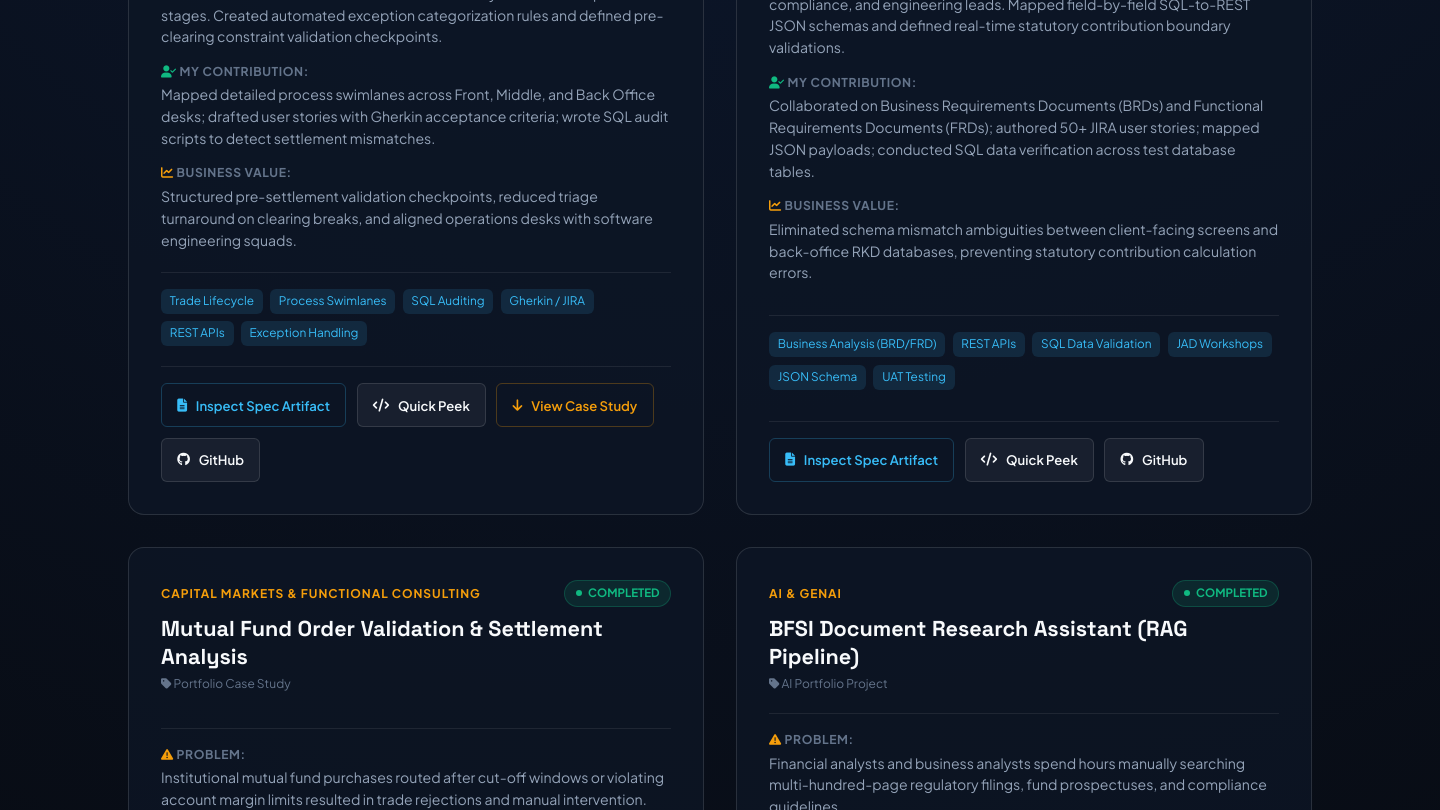
Test: Techno-Functional Portfolio Comprehensive Regression Suite › FeaturedWork Component › opens deliverable spec modal, verifies accessibility dialog, and closes via close button and Escape key
(page scrolled)
Click the button "Inspect Spec Artifact" in the row of "View Case Study": {"x": 254, "y": 405} [161,383,346,427]
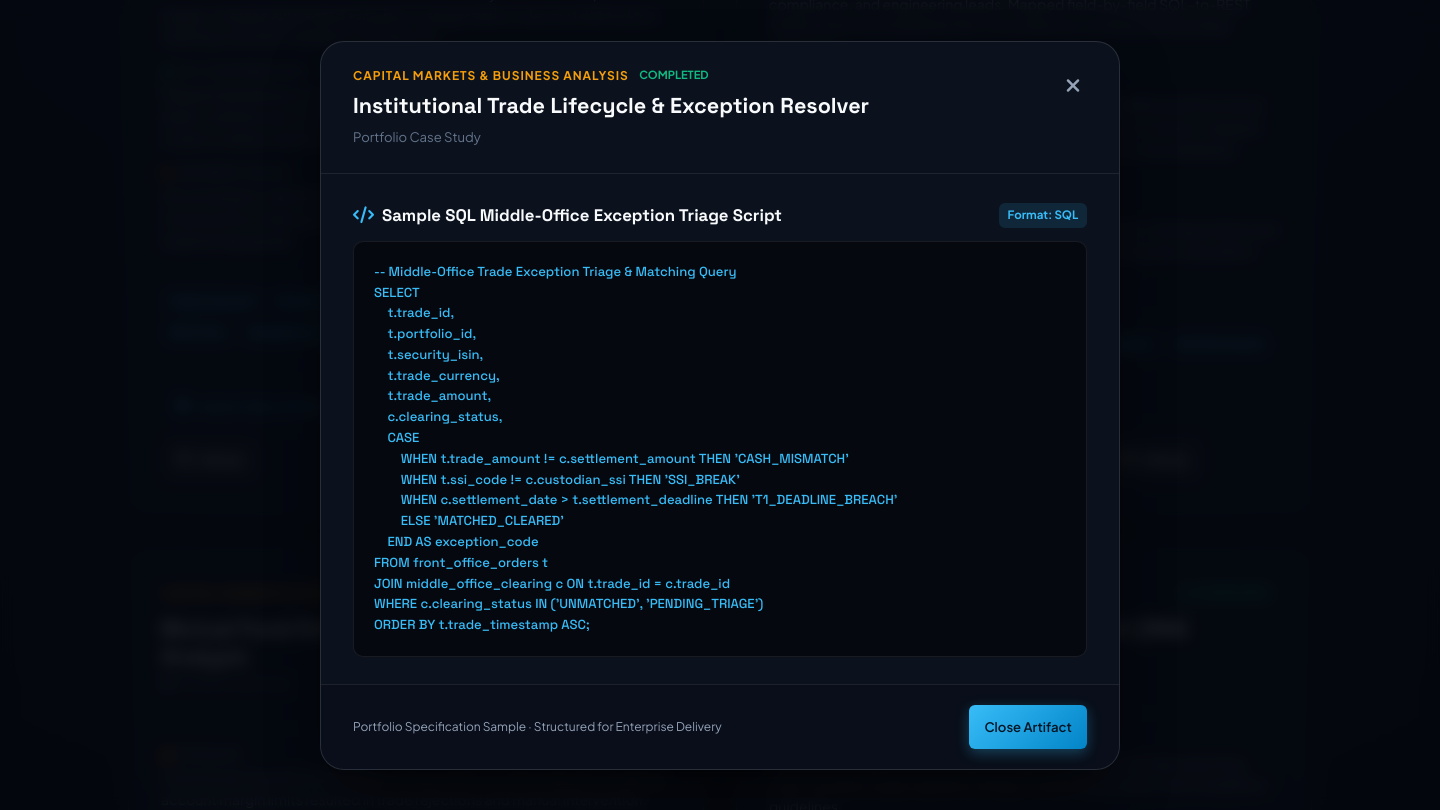
Expected: the dialog is shown, [320,40,1120,770]
# Close with close button
Click the button named "Close modal": {"x": 1073, "y": 84} [1059,66,1087,103]
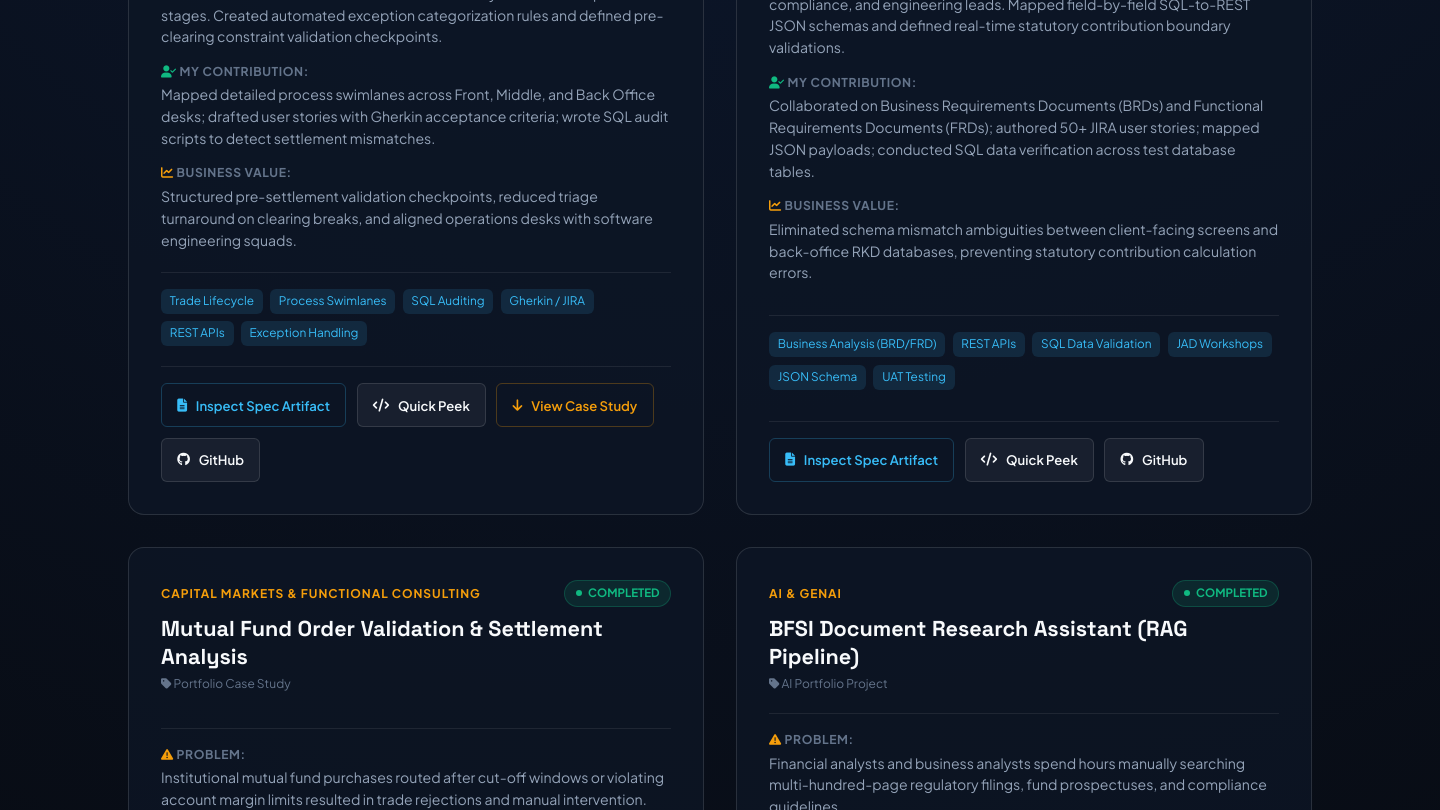
Expected: the dialog is gone
# Open again and close with Escape key
Click the button "Inspect Spec Artifact" in the row of "View Case Study": {"x": 254, "y": 405} [161,383,346,427]
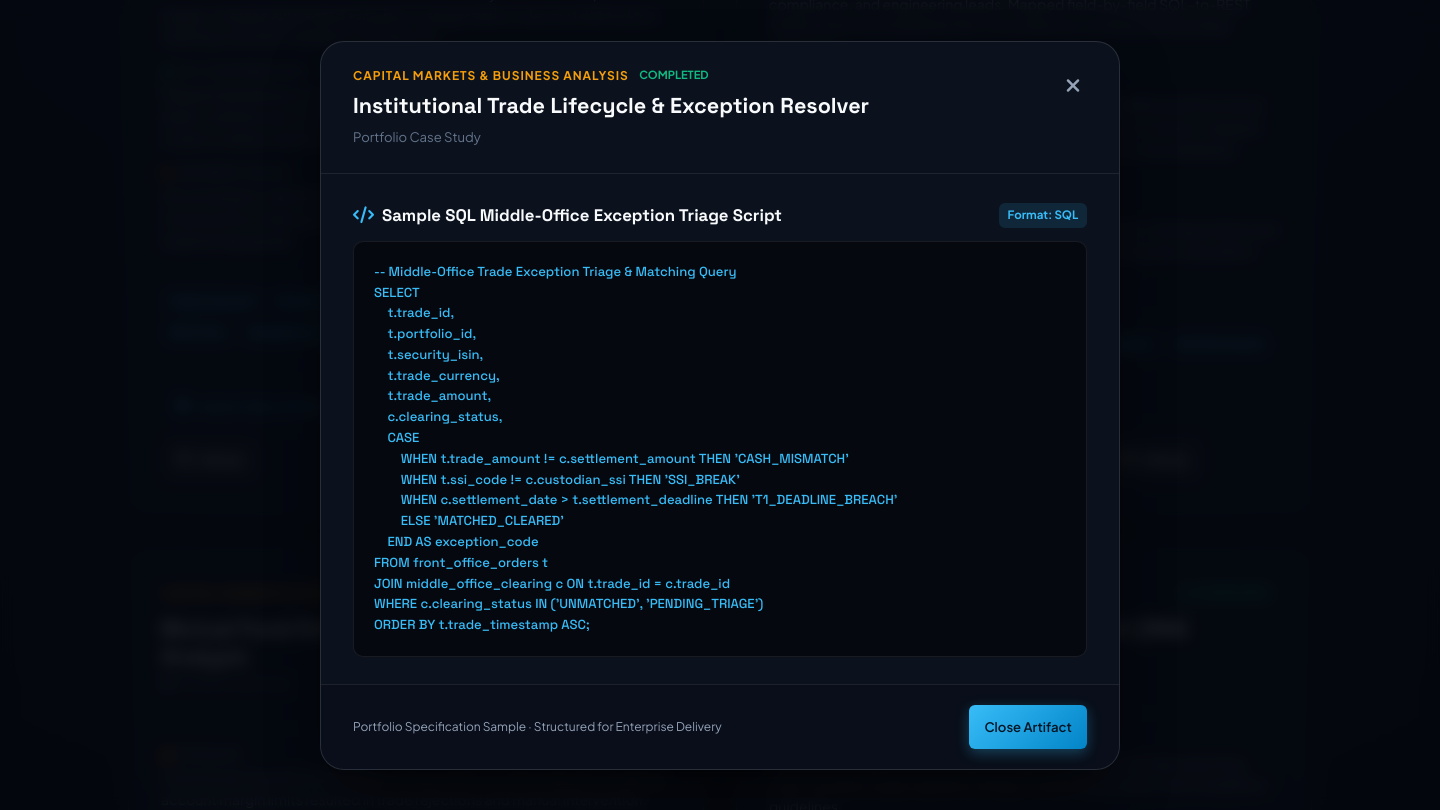
Expected: the dialog is shown, [320,40,1120,770]
Press Escape
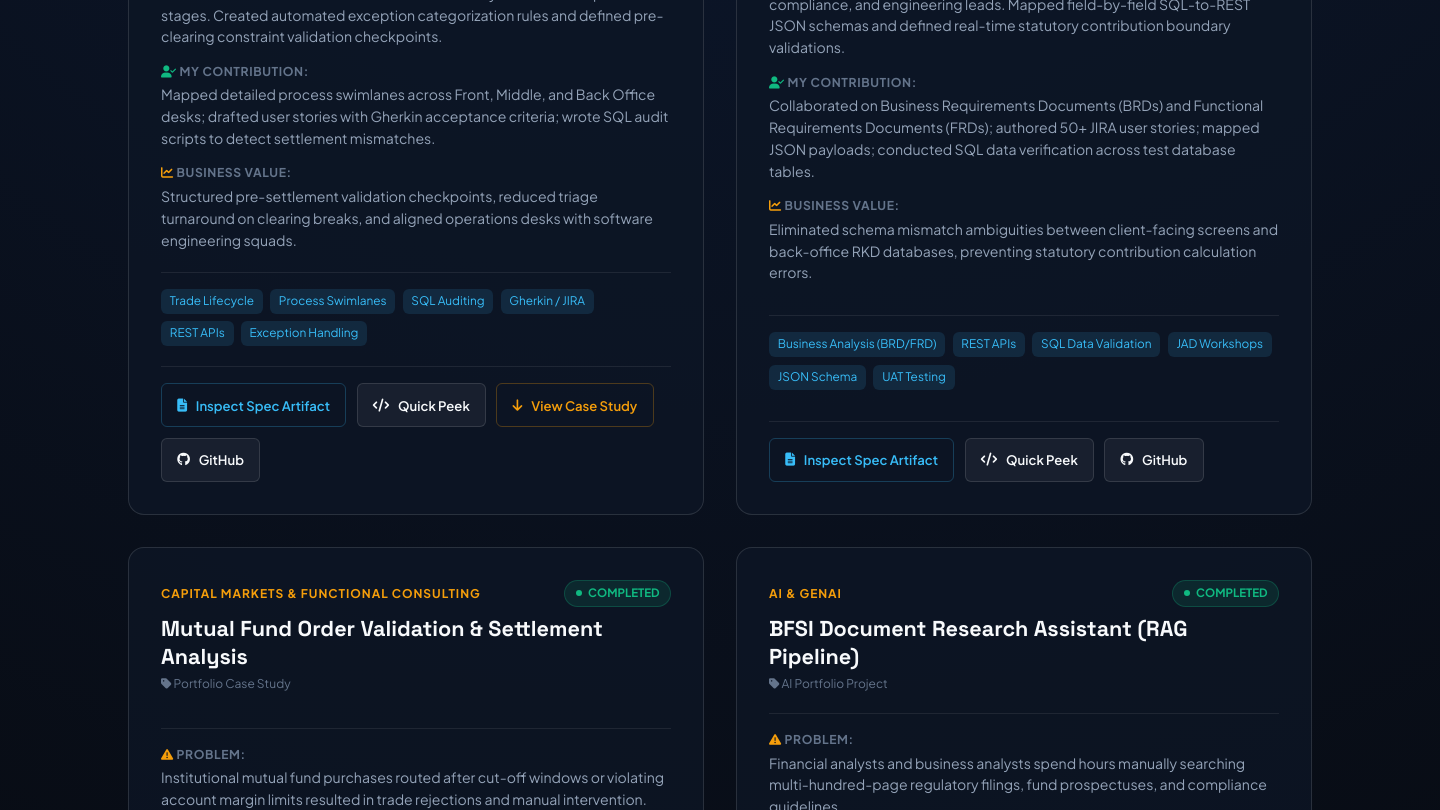
Expected: the dialog is gone
